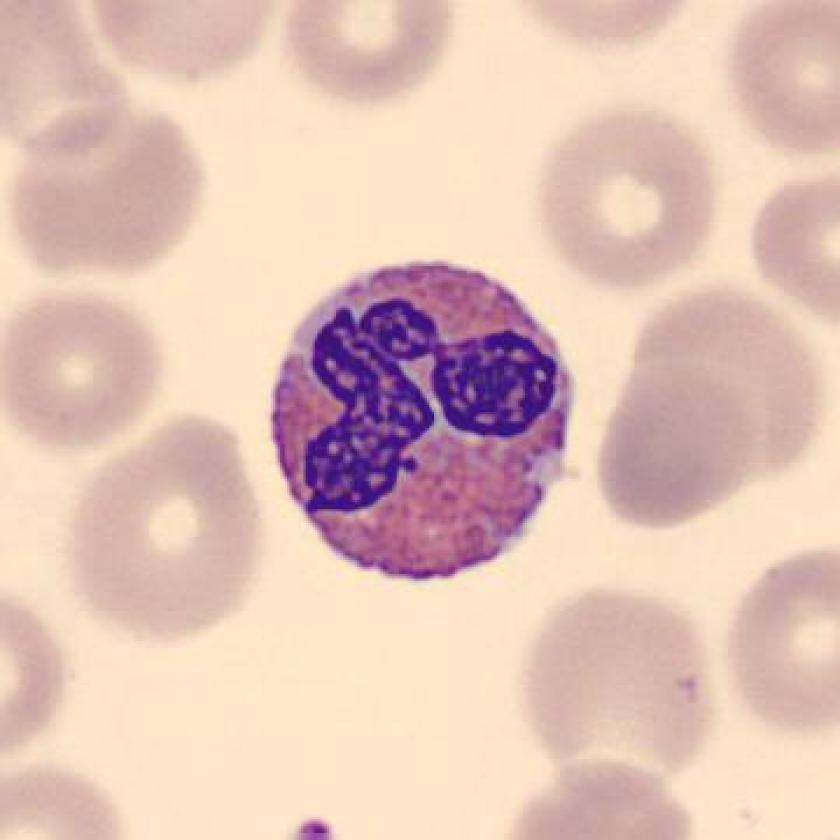eosinophil: (258, 237, 591, 591)
